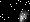person: (20, 9, 29, 22)
